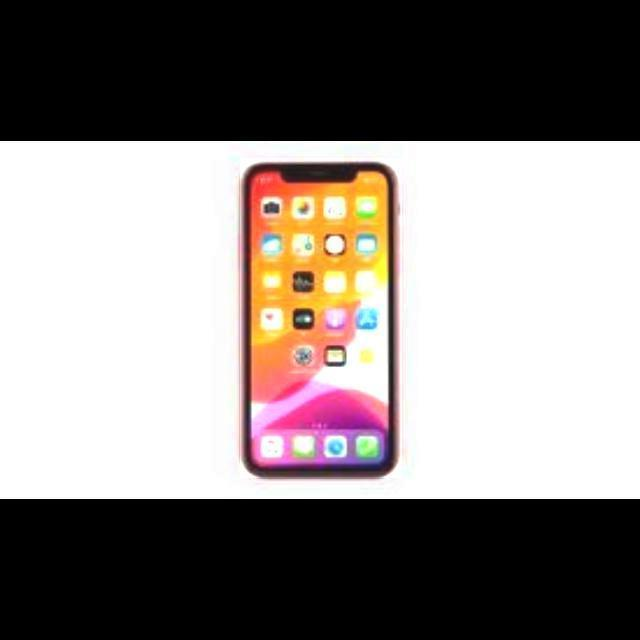mobile: (240, 158, 402, 479)
